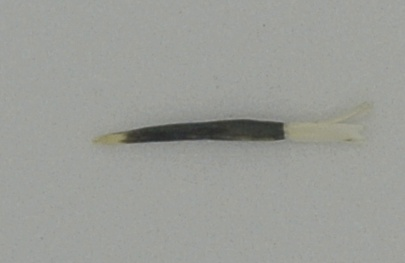เมล็ดดีเรียวยาว: (88, 99, 375, 148)
